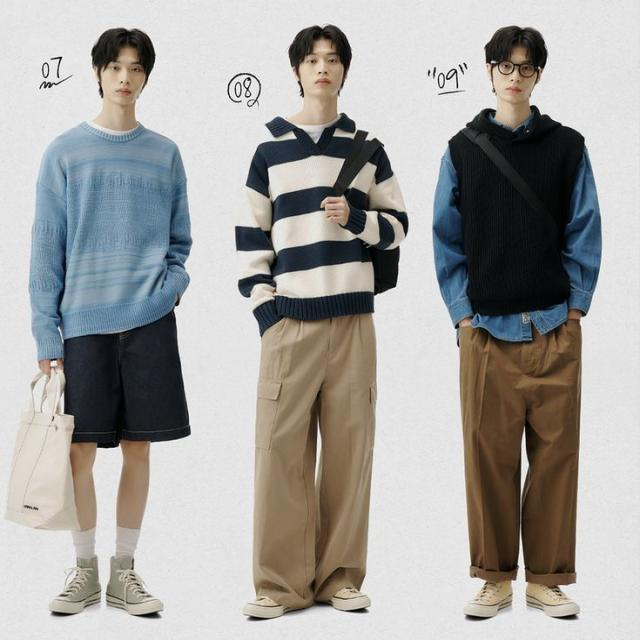person: (234, 23, 409, 619), (431, 25, 603, 619), (28, 27, 192, 616)
